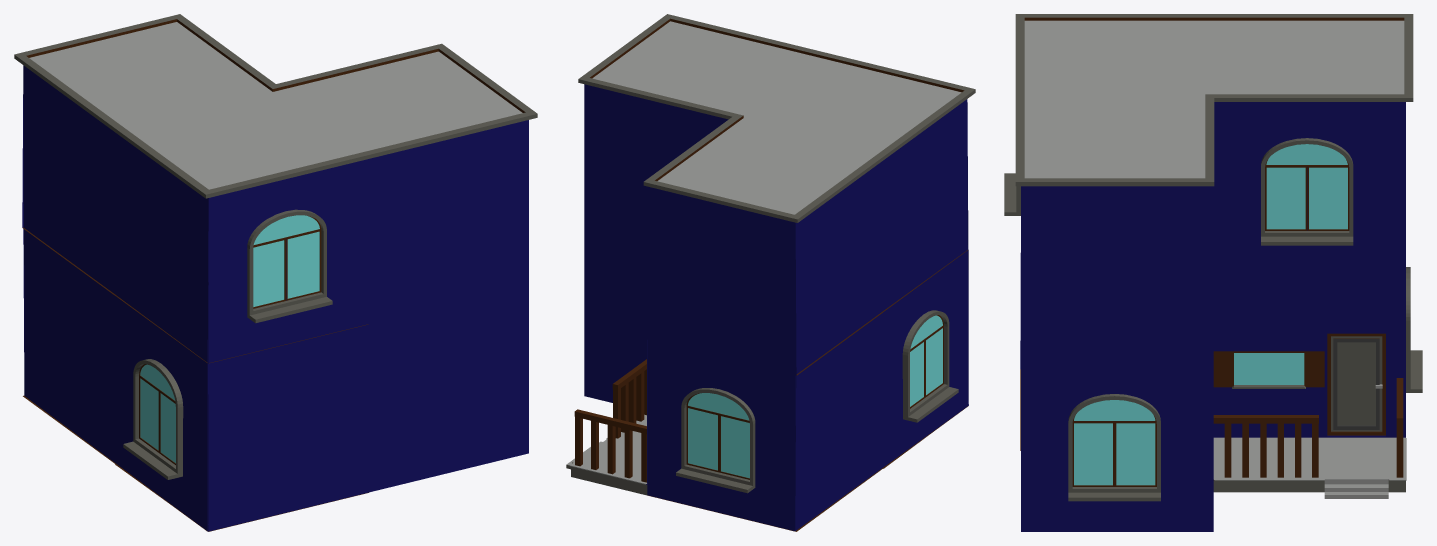
The model's file is hopuse 4.fbx.
3 renders of one model, left to right at view 1: azimuth 30°, elevation 25°; view 2: azimuth 150°, elevation 25°; view 3: azimuth 270°, elevation 25°, orthographic. The views are drawn at different scales.
Parts seen in each view (by area): view 1: House 4; view 2: House 4; view 3: House 4.
Boxes of the visible parts, bbox=[...] form: House 4: bbox=[14, 14, 537, 531]; House 4: bbox=[566, 14, 975, 531]; House 4: bbox=[1004, 14, 1422, 531].
Bounding box in the file's own units: 218 × 202 × 217.
